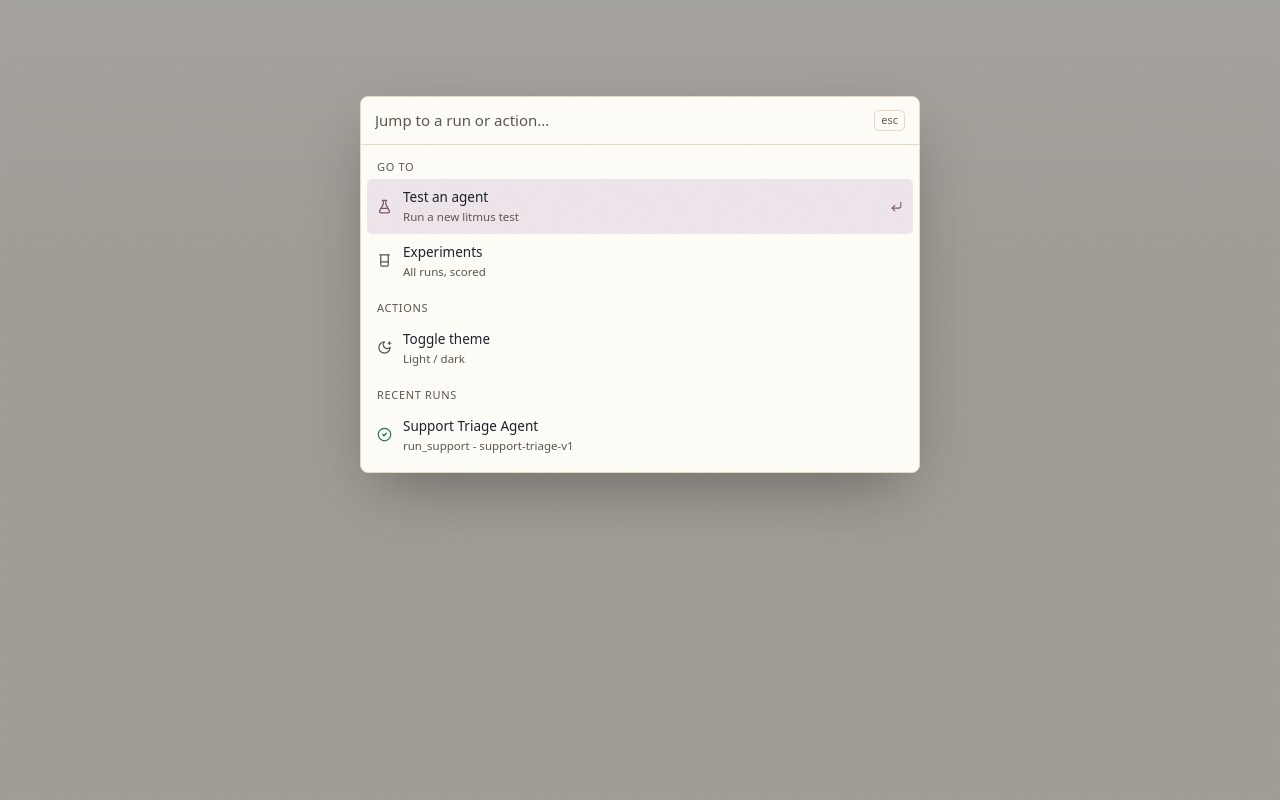
CommandPalette › shows an empty state for unmatched filters
Type "zzzz-no-match" into the field named "command palette search" at (621, 120), box 375,109 -> 866,132
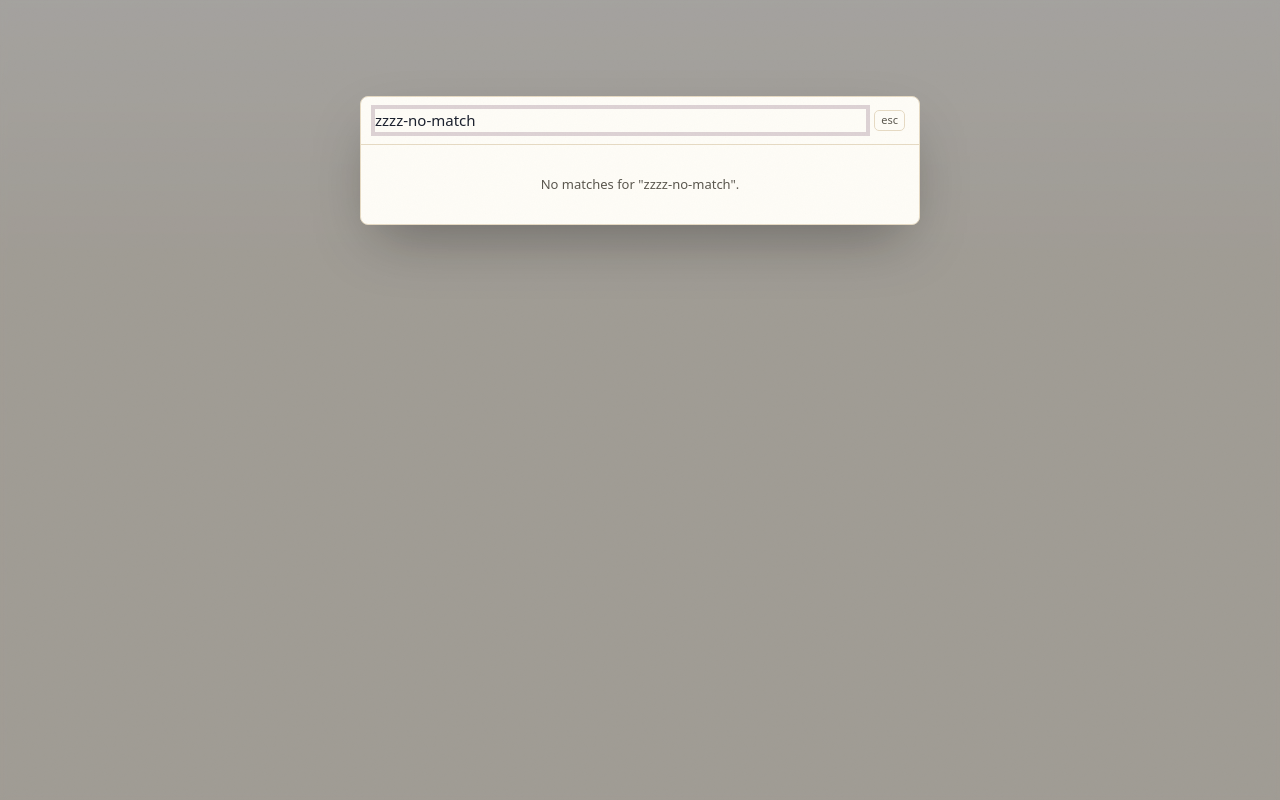
Now the text "No matches for \"zzzz-no-match\"." is shown, box 541,174 -> 739,192
